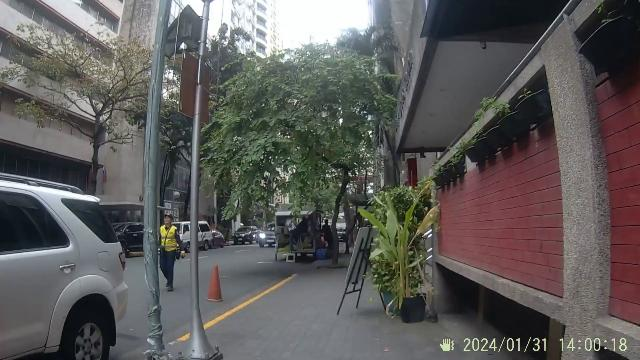potted_plant: (337, 180, 437, 329)
street_sign: (175, 46, 218, 360)
street_vendor_cart: (270, 204, 334, 264)
